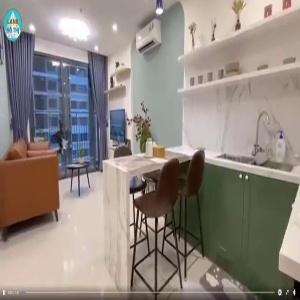drone: (40, 118, 82, 160)
